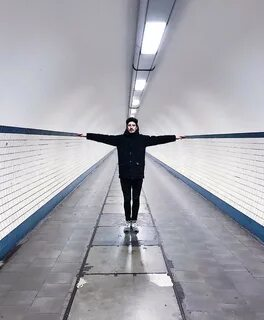awake: (76, 117, 184, 235)
